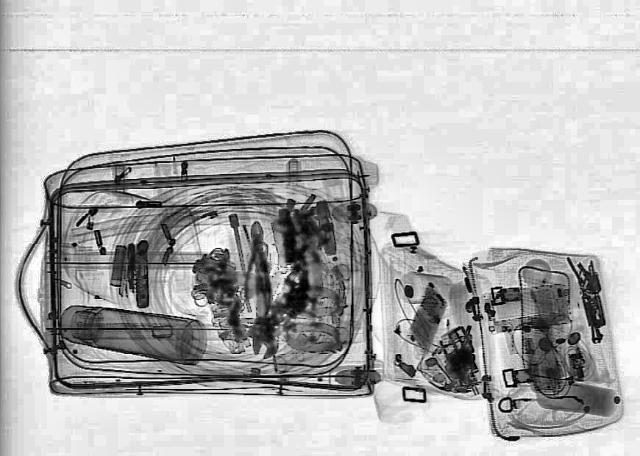Pliers: (237, 221, 271, 313)
